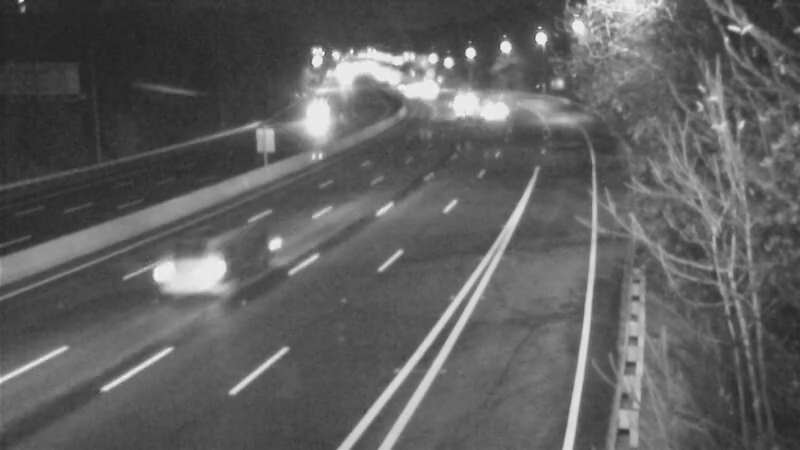vehicle: (154, 234, 234, 314), (439, 70, 489, 120), (432, 88, 482, 138), (467, 84, 517, 134), (283, 91, 333, 141)
